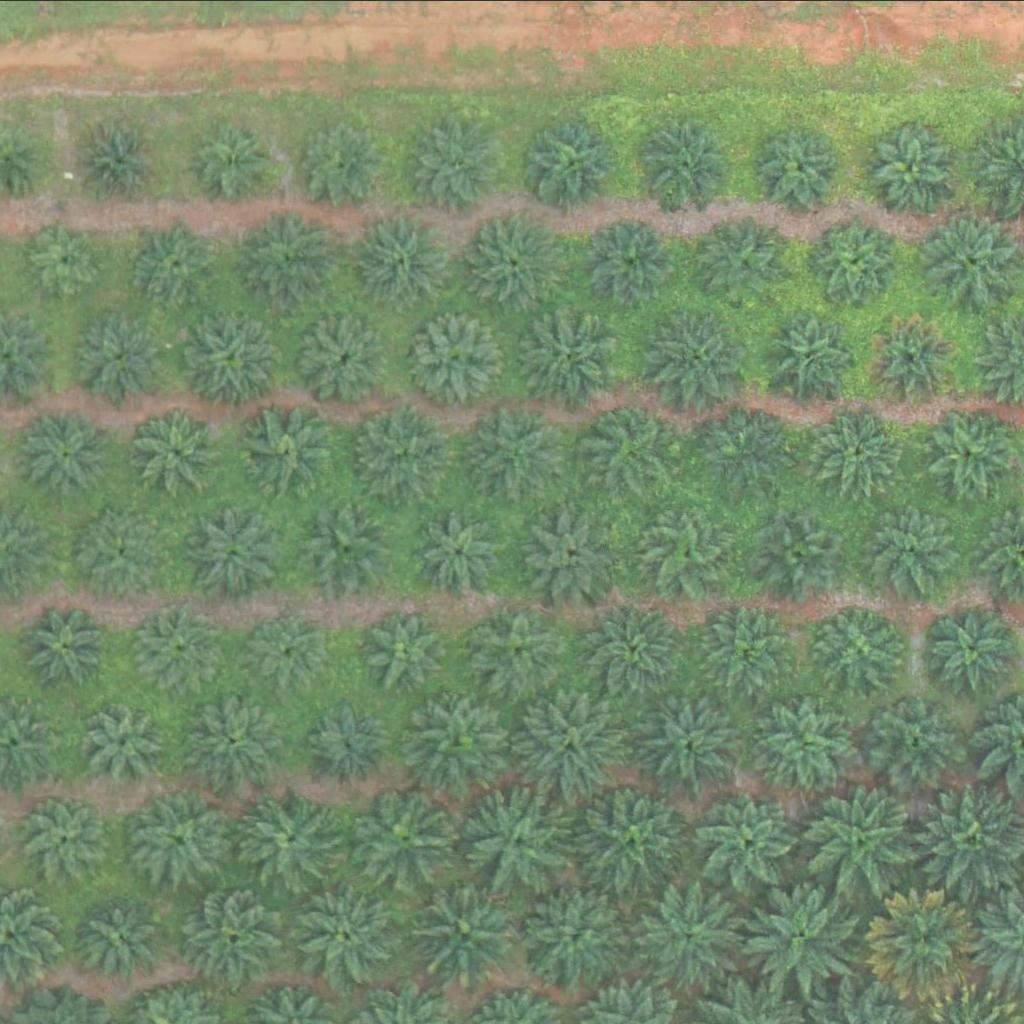Kelapa_Sawit: (462, 784, 575, 897), (514, 686, 627, 799), (634, 683, 747, 796), (868, 886, 981, 999), (288, 878, 401, 990), (415, 871, 528, 983), (521, 878, 634, 990), (640, 878, 753, 990), (746, 881, 859, 993), (580, 778, 693, 890), (804, 777, 917, 889), (182, 687, 283, 787), (129, 788, 230, 888), (246, 788, 347, 888), (183, 884, 284, 984), (700, 789, 801, 889), (695, 597, 796, 697), (294, 497, 395, 597), (347, 402, 448, 502), (468, 397, 569, 497), (407, 306, 508, 406), (518, 307, 619, 407), (651, 306, 752, 406), (352, 204, 453, 304), (463, 211, 564, 311), (522, 112, 623, 212), (922, 402, 1023, 502), (858, 496, 959, 596), (866, 690, 967, 790), (241, 208, 341, 308), (180, 308, 280, 408), (237, 402, 337, 502), (184, 502, 284, 602), (350, 787, 450, 887), (410, 689, 510, 789), (468, 601, 568, 701), (516, 503, 616, 603), (577, 394, 677, 494), (697, 395, 797, 495), (303, 312, 392, 400), (196, 118, 284, 206), (133, 215, 221, 303), (77, 314, 165, 402), (78, 892, 166, 980), (417, 507, 505, 595), (639, 508, 727, 596), (758, 505, 846, 593), (587, 218, 675, 306), (643, 116, 731, 204), (757, 120, 845, 208), (867, 119, 955, 207), (814, 405, 902, 493), (77, 115, 165, 202), (25, 410, 113, 497), (136, 407, 224, 494), (85, 507, 173, 594), (77, 695, 165, 782), (21, 793, 109, 880), (764, 697, 852, 784), (588, 602, 676, 689), (699, 215, 787, 302), (297, 119, 385, 206), (412, 119, 500, 206), (771, 310, 859, 397), (810, 218, 898, 305), (868, 314, 956, 401), (817, 606, 905, 693), (932, 603, 1020, 690), (31, 605, 107, 680), (142, 607, 218, 682), (312, 704, 388, 779), (365, 610, 441, 685), (31, 219, 106, 294), (257, 615, 332, 690)
